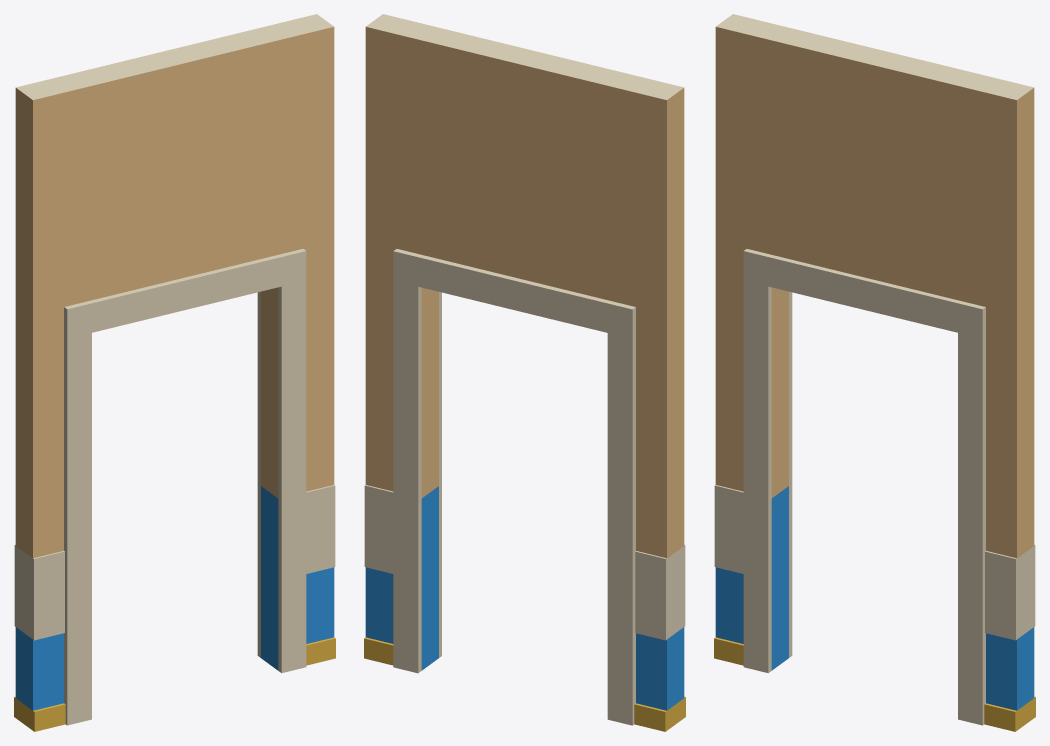
Rendered from door.fbx.
The picture shows the model from 3 angles, left to right: view 1: azimuth 30°, elevation 25°; view 2: azimuth 150°, elevation 25°; view 3: azimuth 330°, elevation 25°; orthographic projection.
Parts seen in each view (by area): view 1: Cube.022, Cube.020, Cube.021; view 2: Cube.022, Cube.020, Cube.021; view 3: Cube.022, Cube.020, Cube.021.
Boxes of the visible parts, bbox=[...] form: Cube.022: bbox=[15, 14, 334, 730]; Cube.020: bbox=[14, 485, 335, 640]; Cube.021: bbox=[14, 637, 335, 731]; Cube.022: bbox=[365, 14, 684, 730]; Cube.020: bbox=[364, 485, 685, 640]; Cube.021: bbox=[364, 637, 685, 731]; Cube.022: bbox=[715, 14, 1034, 730]; Cube.020: bbox=[714, 485, 1035, 640]; Cube.021: bbox=[714, 637, 1035, 731].
Bounding box in the file's own units: 2 × 0.2742 × 4.
